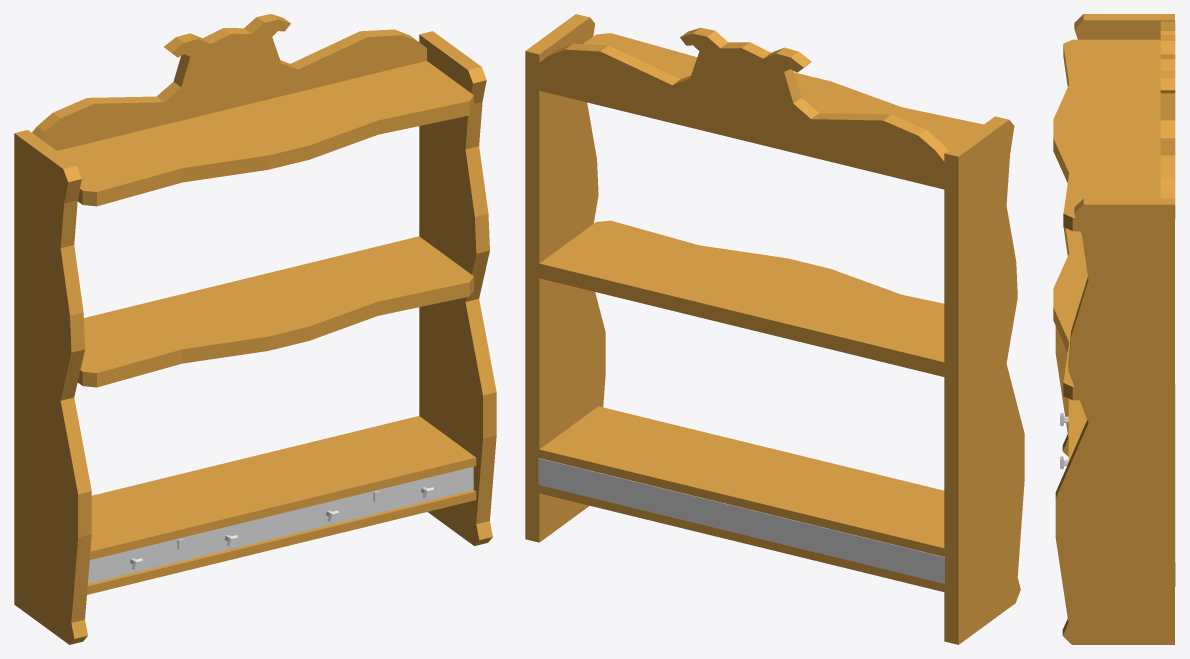
The model's file is SM_Shelf_Wall_Victorian_A.fbx.
3 views of the same model, side by side, from view 1: azimuth 30°, elevation 25°; view 2: azimuth 150°, elevation 25°; view 3: azimuth 270°, elevation 25° (orthographic). The views are drawn at different scales.
Parts seen in each view (by area): view 1: shelf-wall-victorian-a-base, shelf-wall-victorian-a-drawer=b, shelf-wall-victorian-a-drawer-a; view 2: shelf-wall-victorian-a-base, shelf-wall-victorian-a-drawer=b, shelf-wall-victorian-a-drawer-a; view 3: shelf-wall-victorian-a-base, shelf-wall-victorian-a-drawer-a.
Boxes of the visible parts, <box> form: shelf-wall-victorian-a-base: <box>14,14,496,644</box>; shelf-wall-victorian-a-drawer=b: <box>278,466,473,537</box>; shelf-wall-victorian-a-drawer-a: <box>88,514,278,583</box>; shelf-wall-victorian-a-base: <box>525,14,1024,644</box>; shelf-wall-victorian-a-drawer=b: <box>538,458,741,534</box>; shelf-wall-victorian-a-drawer-a: <box>741,507,944,583</box>; shelf-wall-victorian-a-base: <box>1053,14,1175,644</box>; shelf-wall-victorian-a-drawer-a: <box>1060,384,1175,473</box>.
Bounding box in the file's own units: 0.8288 × 0.9998 × 0.2244.
